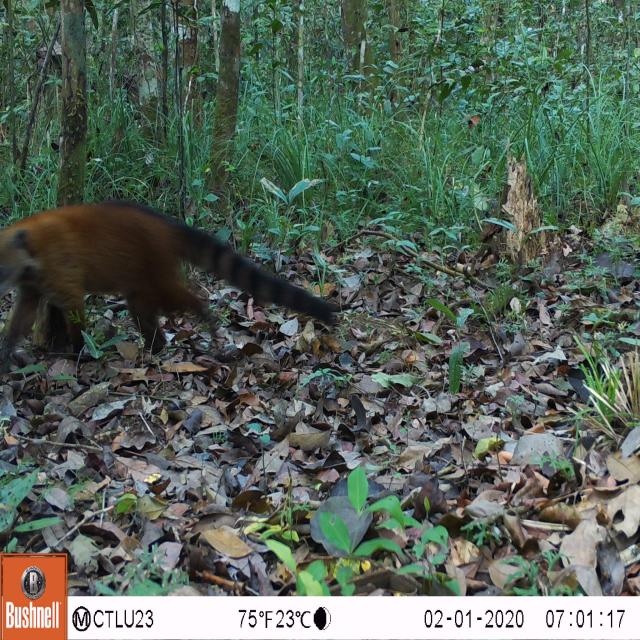South American Coati: (0, 181, 344, 365)
